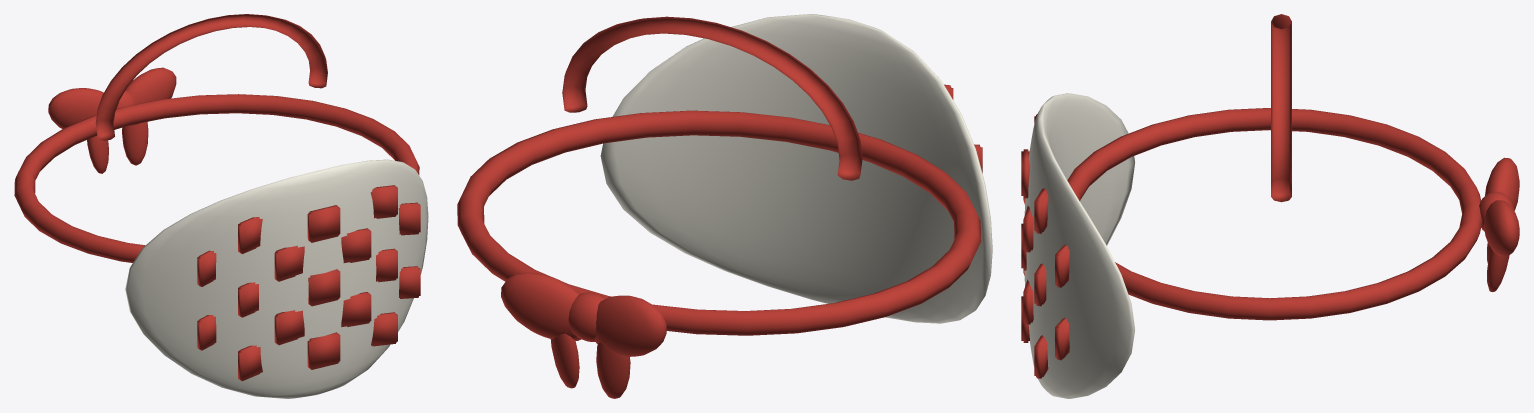
The model's file is gingham_apron.glb.
The picture shows the model from 3 angles, left to right: view 1: azimuth 30°, elevation 25°; view 2: azimuth 150°, elevation 25°; view 3: azimuth 270°, elevation 25°; orthographic projection. The views are drawn at different scales.
Parts seen in each view (by area): view 1: ApronShield, WaistBelt, NeckStrap, BackBowLoop_-1, BackBowLoop_1, Tile_4_3, Tile_0_3, Tile_2_3, Tile_3_2, Tile_3_4, Tile_1_2, BackBowTail_1 (+12 smaller); view 2: ApronShield, WaistBelt, NeckStrap, BackBowLoop_1, BackBowLoop_-1, BackBowTail_-1, BackKnot, BackBowTail_1; view 3: ApronShield, WaistBelt, NeckStrap, BackBowLoop_1, BackBowLoop_-1, BackBowTail_1, Tile_4_5, Tile_3_6, Tile_1_6, Tile_0_5, Tile_2_5, Tile_3_4.
Part boxes in pixels (x1,y1,x2,y2): ApronShield: (125,159,428,398); WaistBelt: (14,94,419,262); NeckStrap: (95,14,327,140); BackBowLoop_-1: (48,88,103,128); BackBowLoop_1: (126,67,176,125); Tile_4_3: (307,205,340,242); Tile_0_3: (307,332,340,369); Tile_2_3: (308,269,340,306); Tile_3_2: (274,245,304,281); Tile_3_4: (341,228,371,262); Tile_1_2: (274,310,304,345); BackBowTail_1: (122,122,148,165); ApronShield: (600,14,992,323); WaistBelt: (457,110,981,335); NeckStrap: (562,16,862,180); BackBowLoop_1: (501,272,580,340); BackBowLoop_-1: (594,295,666,356); BackBowTail_-1: (596,342,630,398); BackKnot: (568,292,605,341); BackBowTail_1: (550,333,579,388); ApronShield: (1024,93,1135,398); WaistBelt: (1067,108,1482,320); NeckStrap: (1271,14,1291,202); BackBowLoop_1: (1484,200,1519,256); BackBowLoop_-1: (1485,157,1519,210); BackBowTail_1: (1487,248,1509,291); Tile_4_5: (1034,188,1048,233); Tile_3_6: (1055,244,1069,287); Tile_1_6: (1055,317,1069,360); Tile_0_5: (1034,335,1048,378); Tile_2_5: (1034,263,1046,306); Tile_3_4: (1023,205,1033,252).
Bounding box in the file's own units: 0.8075 × 0.6377 × 0.8484.
